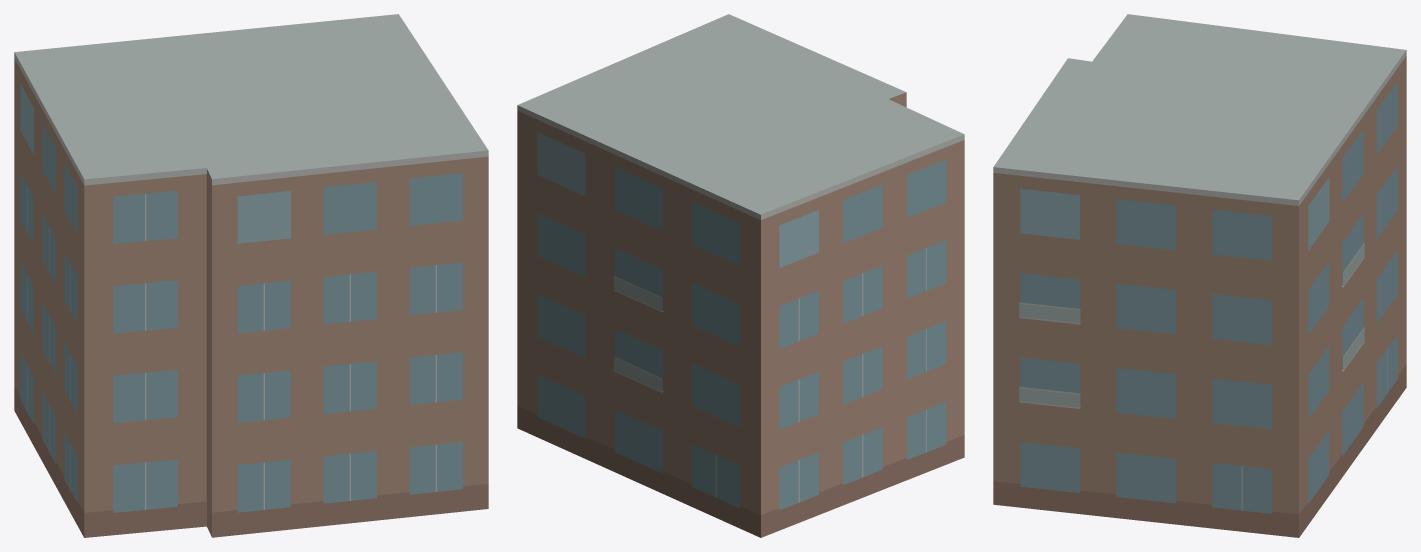
The model's file is survey-upis-32852205.glb.
3 views of the same model, side by side, from view 1: azimuth 30°, elevation 25°; view 2: azimuth 150°, elevation 25°; view 3: azimuth 270°, elevation 25° (orthographic). The views are drawn at different scales.
Visible parts, largest first — view 1: survey-upis-32852205.tmp; view 2: survey-upis-32852205.tmp; view 3: survey-upis-32852205.tmp.
Part boxes in pixels (x1,y1,x2,y2): survey-upis-32852205.tmp: (14,14,488,537); survey-upis-32852205.tmp: (517,14,964,537); survey-upis-32852205.tmp: (993,14,1406,537).
Size of the model in its own units: 17.05 by 14.4 by 15.98.
